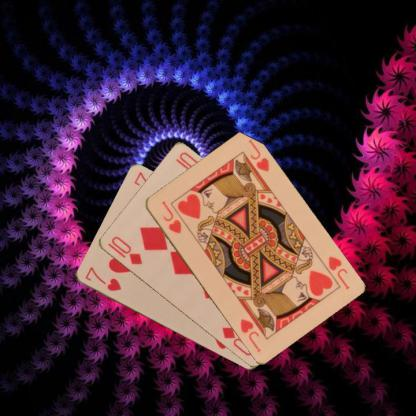10d: (105, 233, 143, 266)
7h: (82, 264, 123, 293)
Jh: (325, 253, 350, 291), (158, 198, 183, 235)
